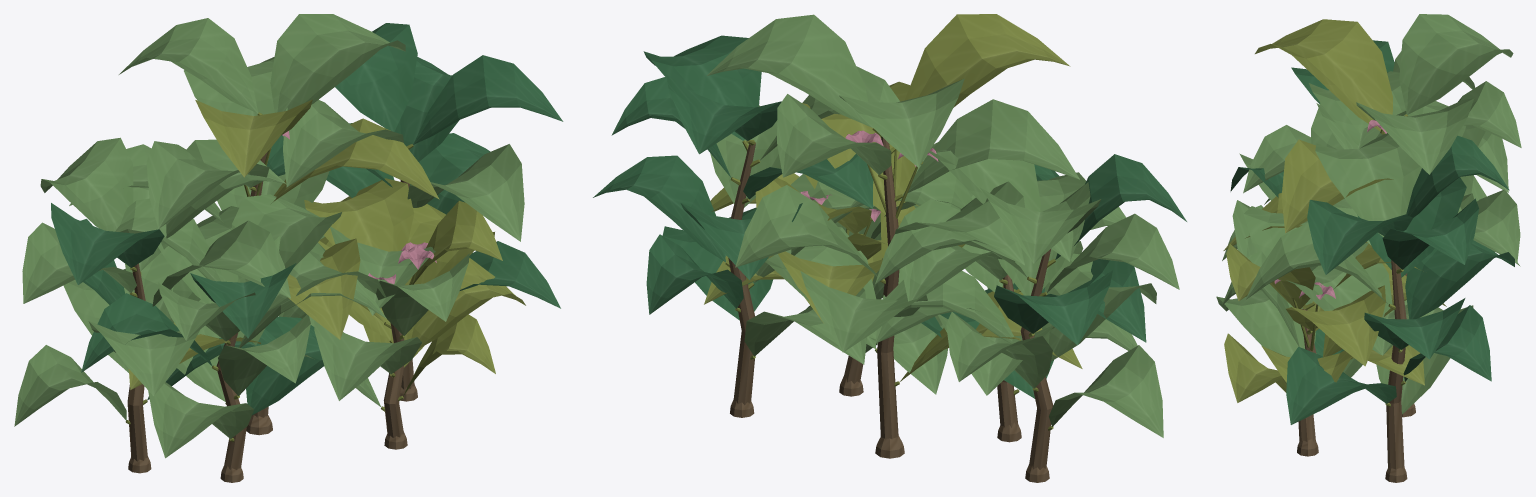
Rendered from AST-BOT-002_pool_loggia_mass_01.glb.
3 renders of one model, left to right at view 1: azimuth 30°, elevation 25°; view 2: azimuth 150°, elevation 25°; view 3: azimuth 270°, elevation 25°, orthographic. The views are drawn at different scales.
Visible parts, largest first — view 1: AST-BOT-002_pool_loggia_mass_01; view 2: AST-BOT-002_pool_loggia_mass_01; view 3: AST-BOT-002_pool_loggia_mass_01.
Part boxes in pixels (<box>): AST-BOT-002_pool_loggia_mass_01: <box>14,14,563,482</box>; AST-BOT-002_pool_loggia_mass_01: <box>593,14,1186,482</box>; AST-BOT-002_pool_loggia_mass_01: <box>1216,14,1521,482</box>.
Bounding box in the file's own units: 2.2 × 1.53 × 1.17.
5 materials, 5 textured.
